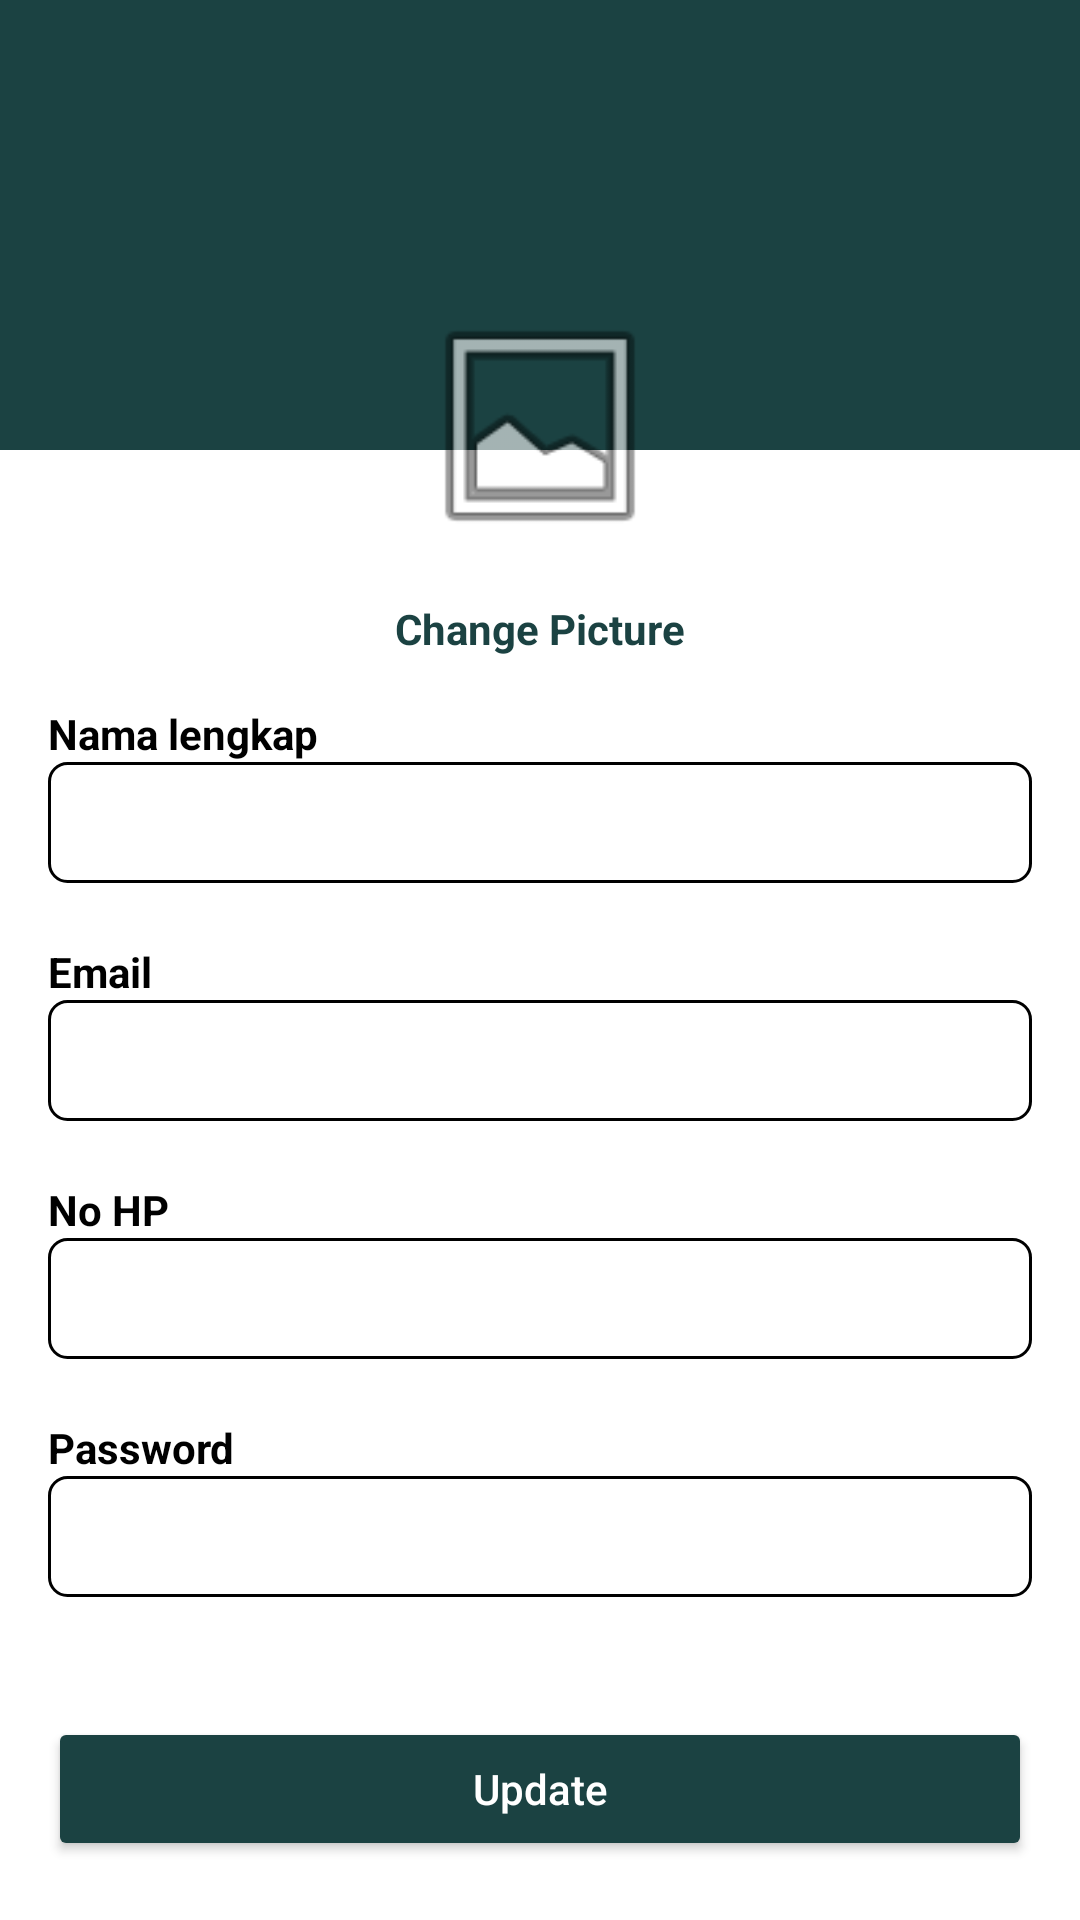

Icon click points for this 1080px×1920px phone screenshot, format (x,y):
gallery: (540,426)
